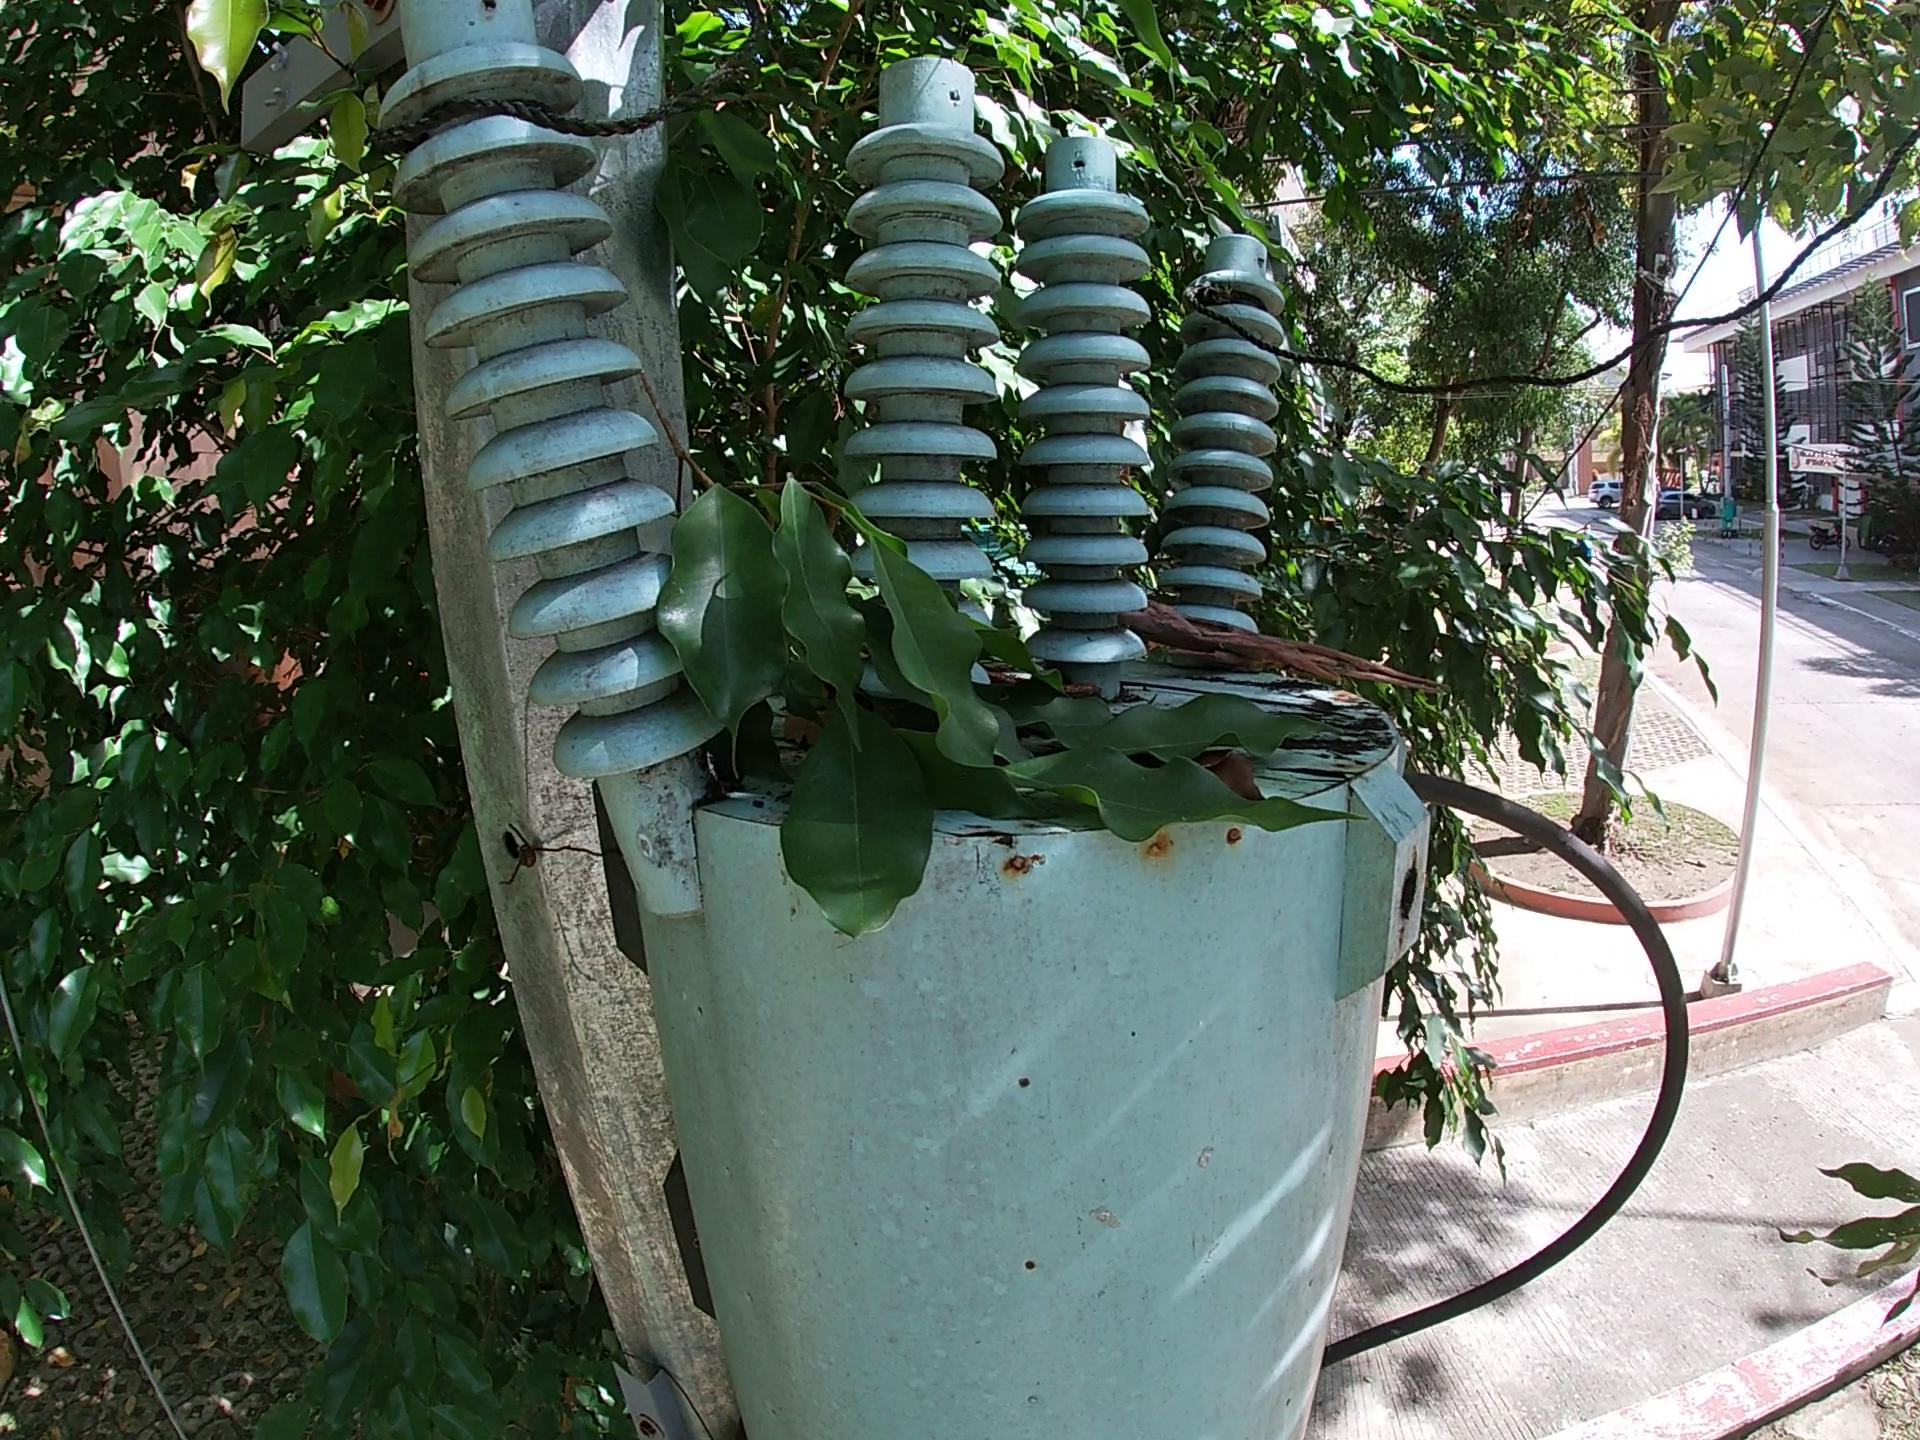branch with leaves: (587, 377, 1424, 976)
mahogany fruit: (1211, 732, 1271, 800), (963, 675, 1111, 700)
tree branch: (1114, 587, 1466, 715), (1126, 675, 1392, 728)
